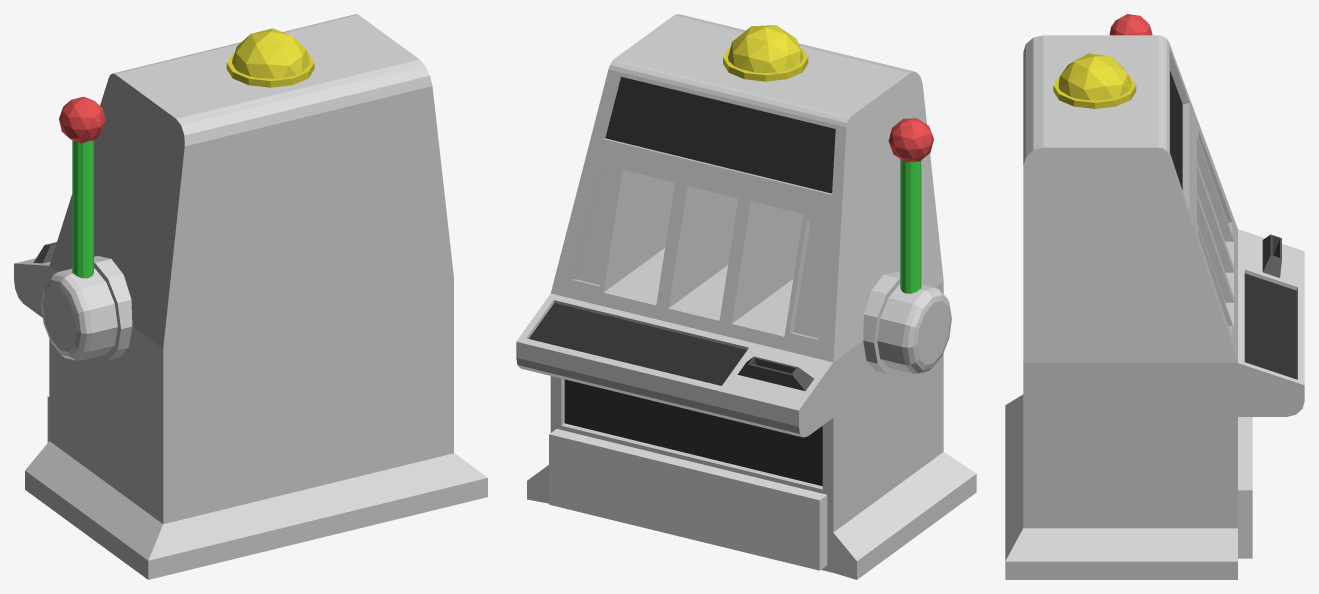
File: slotMachine.fbx
3 renders of one model, left to right at view 1: azimuth 30°, elevation 25°; view 2: azimuth 150°, elevation 25°; view 3: azimuth 270°, elevation 25°, orthographic. The views are drawn at different scales.
Parts seen in each view (by area): view 1: slotMachine, arm; view 2: slotMachine, drawer, arm; view 3: slotMachine, drawer, arm.
Boxes of the visible parts, x1,y1,x2,y2 form: slotMachine: [14, 14, 487, 579]; arm: [41, 96, 132, 360]; slotMachine: [516, 14, 976, 579]; drawer: [549, 429, 827, 570]; arm: [863, 118, 951, 373]; slotMachine: [1005, 35, 1304, 579]; drawer: [1238, 417, 1252, 558]; arm: [1109, 14, 1152, 35].
Bounding box in the file's own units: 1.7 × 2.24 × 2.79.
